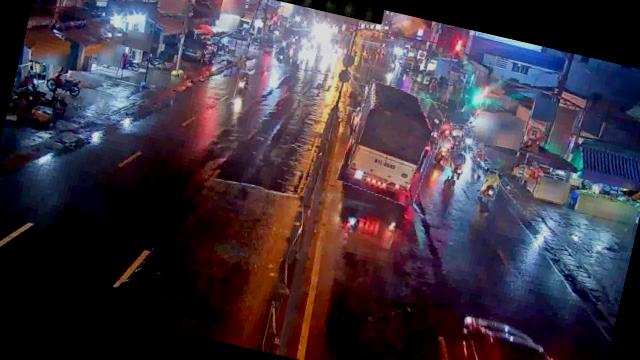Bike: (44, 71, 78, 96), (465, 152, 488, 187), (445, 148, 467, 182), (480, 168, 503, 200), (233, 71, 254, 102), (433, 136, 452, 166), (448, 123, 467, 149), (460, 127, 478, 150)
Truck: (337, 80, 447, 208)
